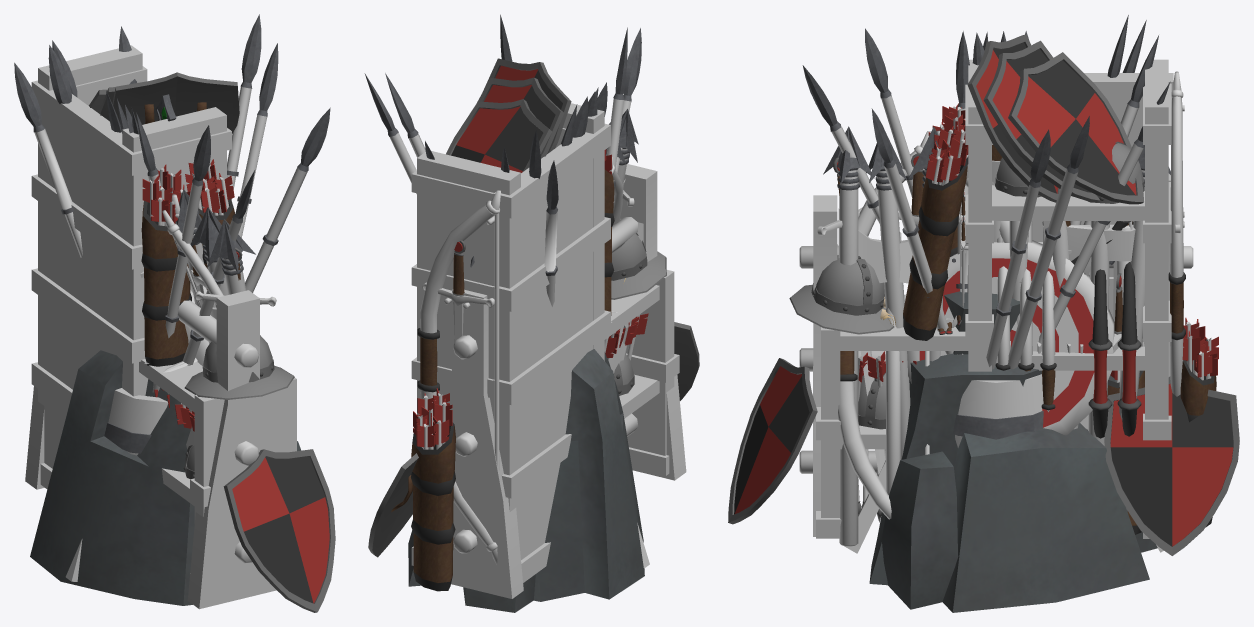
Rendered from weapons.fbx.
3 renders of one model, left to right at view 1: azimuth 30°, elevation 25°; view 2: azimuth 150°, elevation 25°; view 3: azimuth 270°, elevation 25°, orthographic. The views are drawn at different scales.
Visible parts, largest first — view 1: shelf, Stone, weapon rack, LOD_012.6, shelf.001, LOD_012.5, LOD_012.55, LOD_012.9, LOD_012.56, barrel, LOD_012.8, LOD_012.7 (+1 smaller); view 2: shelf, Stone, weapon rack, shelf.001, LOD_012.9, LOD_012.55, LOD_012.8, LOD_012.5, LOD_012.6, LOD_012.56; view 3: Stone, LOD_012.55, LOD_012.6, shelf.001, LOD_012.9, LOD_012.5, shelf, LOD_012.56, target.002, LOD_012.8, LOD_012.7, weapon rack (+1 smaller).
Boxes of the visible parts, box(x1,y1,x2,y2) form: shelf: box(31, 45, 291, 573); Stone: box(30, 350, 301, 605); weapon rack: box(25, 290, 276, 609); LOD_012.6: box(106, 90, 335, 612); shelf.001: box(32, 48, 296, 515); LOD_012.5: box(14, 14, 330, 392); LOD_012.55: box(141, 159, 294, 431); LOD_012.9: box(89, 72, 239, 479); LOD_012.56: box(174, 189, 255, 307); barrel: box(104, 388, 168, 455); LOD_012.8: box(162, 194, 223, 307); LOD_012.7: box(131, 108, 216, 319); shelf: box(411, 103, 679, 582); Stone: box(408, 349, 644, 612); weapon rack: box(448, 164, 686, 598); shelf.001: box(411, 103, 679, 553); LOD_012.9: box(422, 58, 634, 395); LOD_012.55: box(417, 149, 666, 564); LOD_012.8: box(411, 156, 623, 591); LOD_012.5: box(364, 14, 641, 306); LOD_012.6: box(368, 91, 699, 557); LOD_012.56: box(470, 109, 638, 267); Stone: box(869, 291, 1157, 612); LOD_012.55: box(789, 71, 1185, 522); LOD_012.6: box(728, 31, 1239, 555); shelf.001: box(816, 59, 1173, 538); LOD_012.9: box(858, 34, 1184, 429); LOD_012.5: box(802, 15, 1170, 369); shelf: box(816, 59, 1173, 538); LOD_012.56: box(823, 126, 1170, 546); target.002: box(844, 240, 1163, 553); LOD_012.8: box(838, 130, 1218, 534); LOD_012.7: box(838, 31, 1135, 494); weapon rack: box(799, 195, 1193, 536).
Size of what is drawn, in the model's own units: 274 by 301 by 156.
